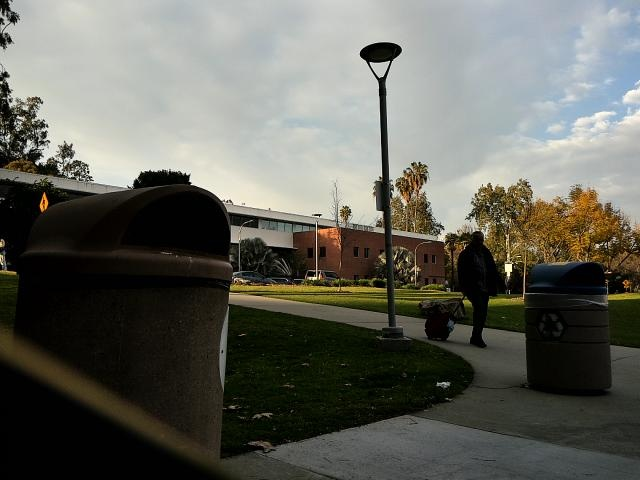trashcan: (14, 179, 252, 479), (521, 260, 616, 401)
